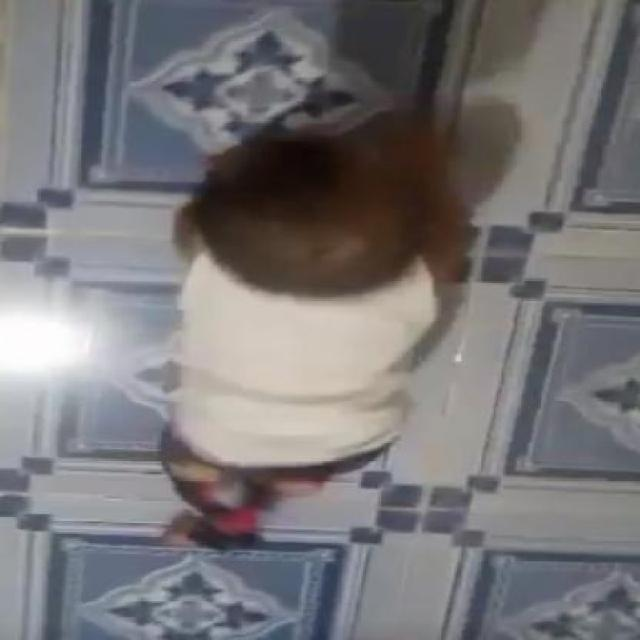baby: (154, 110, 458, 556)
